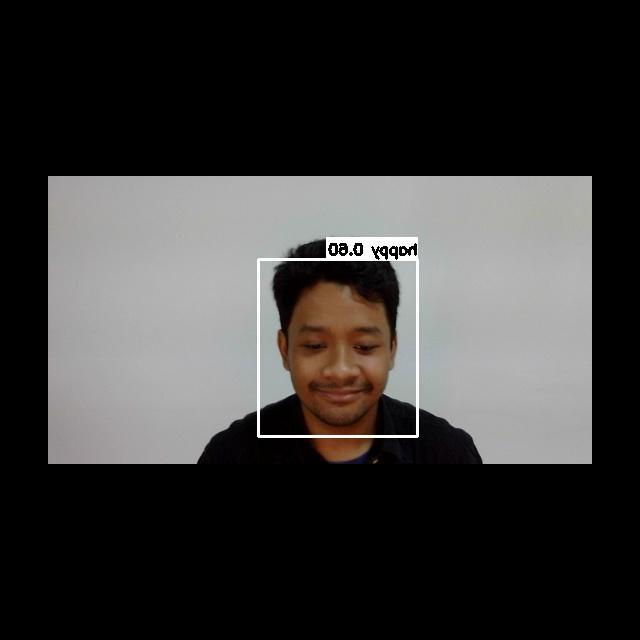Happy: (284, 309, 398, 413)
